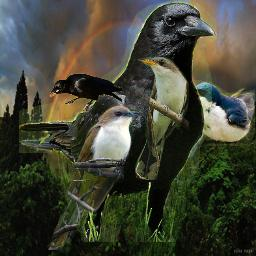Crow: (19, 0, 217, 242), (49, 73, 122, 112)
Cuckoo: (47, 103, 138, 250), (135, 57, 189, 180)
Swallow: (184, 80, 255, 146)
